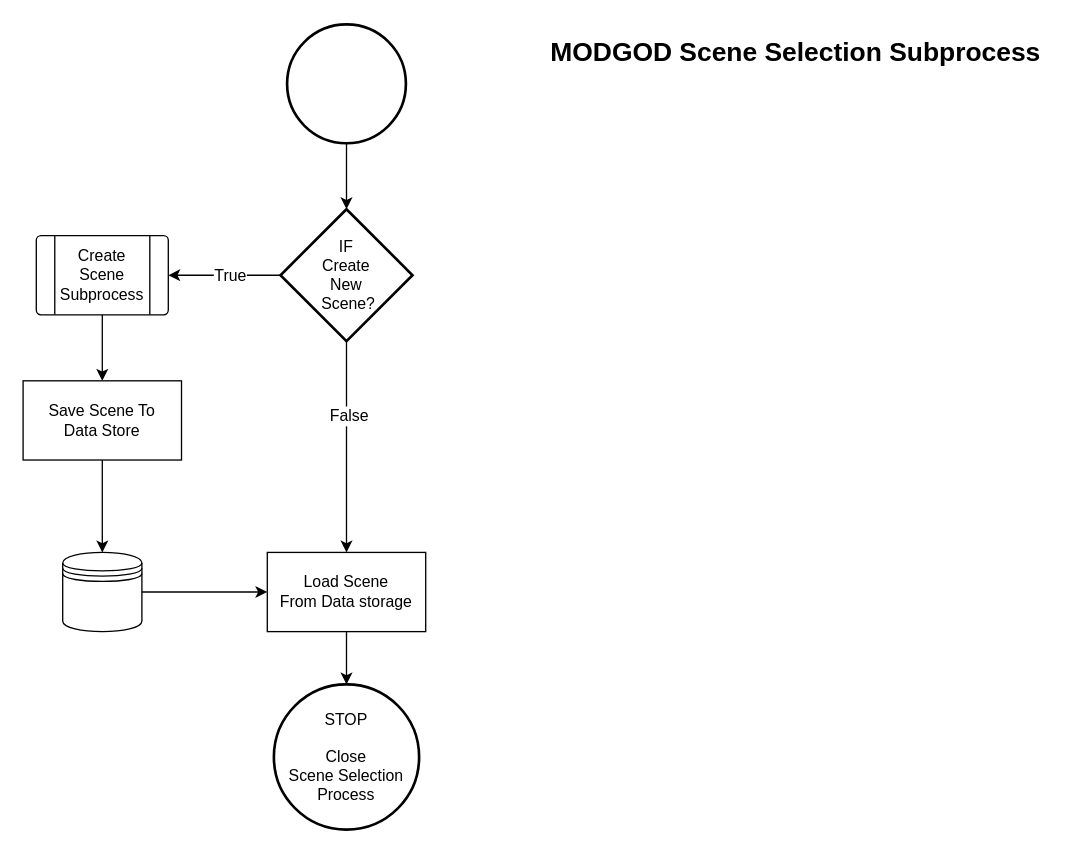
The diagram is 1089 pixels wide and 853 high, and some of its shapes have lost their labels. The centre of each missing label's shape, as x and y in pixels:
Data Storage: (101,591)
START Open Scene: (346,83)
